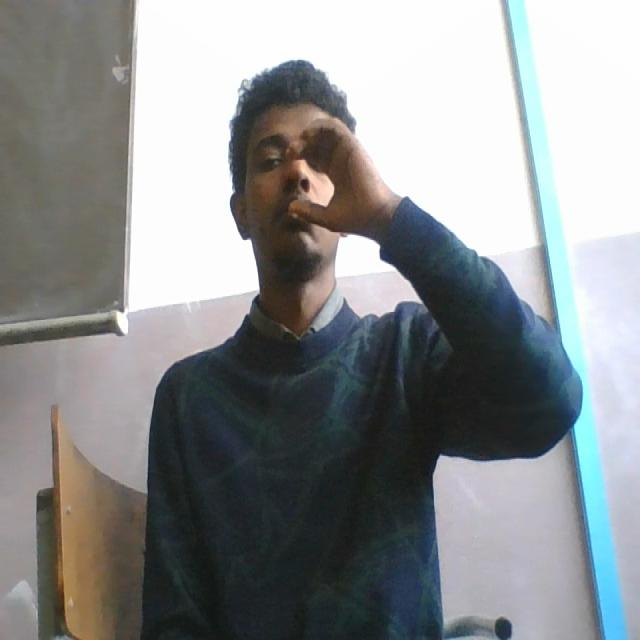metetat: (250, 118, 371, 236)
